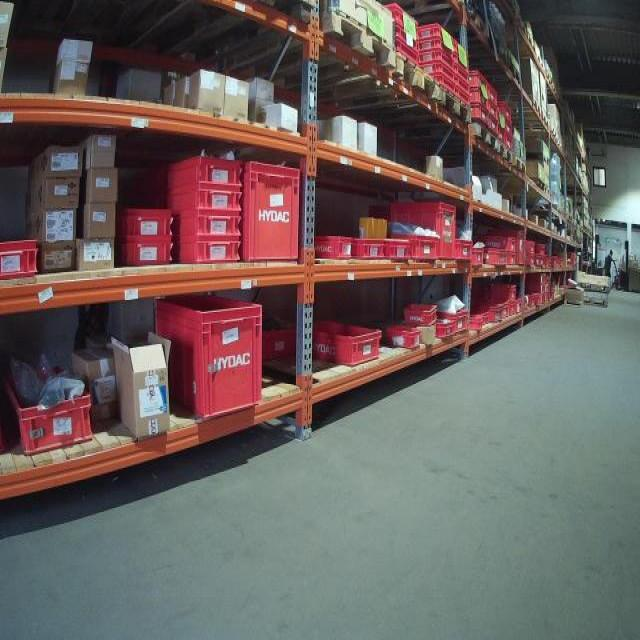pallet: (214, 9, 398, 106), (92, 3, 318, 72), (314, 51, 442, 117), (394, 2, 498, 50), (443, 111, 500, 159), (429, 85, 474, 133), (482, 135, 518, 169), (499, 180, 550, 199), (494, 63, 524, 95), (502, 98, 541, 122), (509, 112, 548, 134), (579, 299, 611, 311), (512, 158, 526, 178), (574, 286, 611, 290)
pallet_truck: (607, 238, 635, 294), (582, 230, 608, 274)
small_load_carrier: (156, 291, 265, 423), (7, 359, 102, 460), (370, 200, 458, 268), (243, 161, 301, 263), (138, 151, 245, 190), (300, 321, 379, 367), (259, 312, 304, 362), (174, 237, 243, 267), (118, 204, 176, 236), (168, 189, 238, 215), (2, 237, 43, 280), (177, 216, 242, 241), (118, 237, 172, 266), (307, 229, 353, 262), (357, 232, 391, 266), (388, 3, 422, 37), (413, 24, 456, 49), (380, 322, 419, 346), (402, 304, 439, 328), (477, 232, 518, 253), (386, 235, 415, 264), (419, 37, 455, 58), (394, 22, 419, 50), (394, 41, 418, 70), (418, 50, 456, 68), (424, 73, 453, 96), (451, 235, 476, 261), (414, 234, 438, 259), (466, 65, 487, 93), (441, 307, 467, 329), (468, 244, 486, 273), (489, 282, 517, 300), (464, 86, 488, 107), (512, 232, 526, 268), (486, 244, 506, 269), (424, 63, 456, 78), (472, 308, 491, 329), (434, 318, 457, 335), (476, 306, 498, 323), (470, 105, 487, 126), (498, 98, 513, 119), (456, 39, 468, 63), (523, 292, 536, 314), (466, 312, 482, 329), (452, 59, 469, 74), (486, 82, 499, 100), (497, 301, 511, 317), (456, 89, 466, 107), (525, 255, 536, 270), (488, 120, 498, 136), (458, 81, 469, 95), (506, 121, 517, 135), (490, 103, 498, 121), (455, 72, 469, 82), (508, 253, 518, 266), (504, 132, 512, 147), (511, 300, 517, 318), (527, 240, 536, 252), (497, 129, 504, 144), (538, 241, 546, 253)
